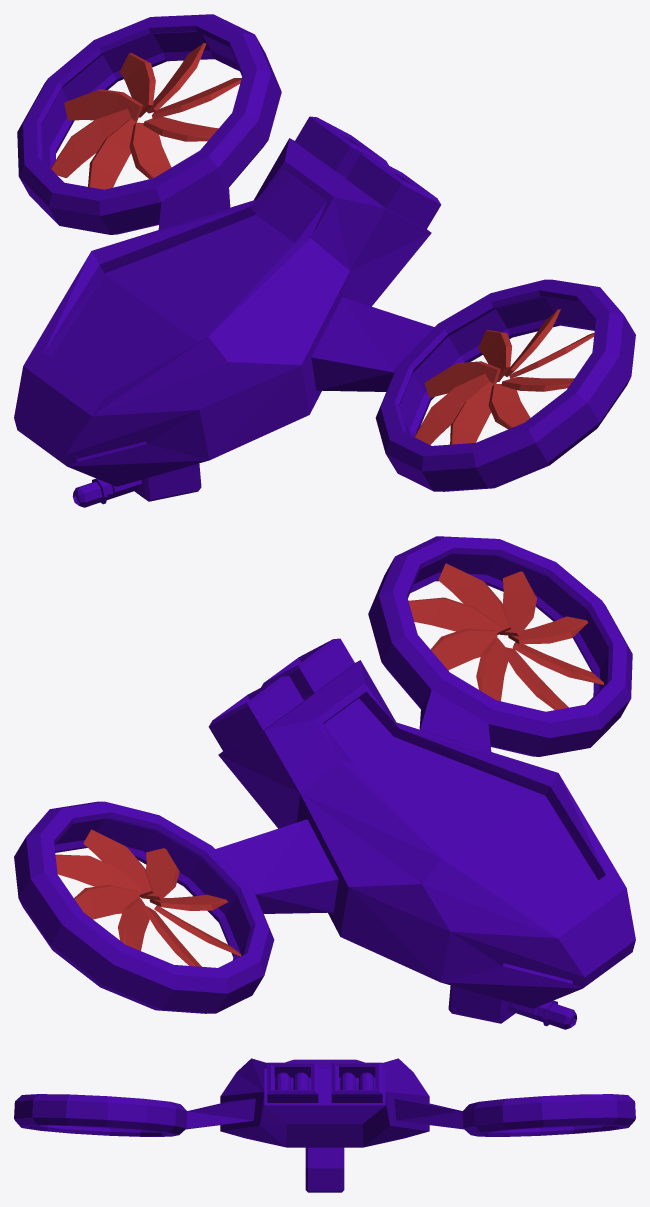
The model's file is Drone.fbx.
The picture shows the model from 3 angles, top to bottom: view 1: azimuth 30°, elevation 25°; view 2: azimuth 150°, elevation 25°; view 3: azimuth 270°, elevation 25°; orthographic projection. The views are drawn at different scales.
Parts seen in each view (by area): view 1: polySurface9, polySurface11, polySurface12; view 2: polySurface9, polySurface12, polySurface11; view 3: polySurface9.
Boxes of the visible parts, x1=… form: polySurface9: x1=14, y1=14, x2=635, y2=507; polySurface11: x1=50, y1=43, x2=241, y2=189; polySurface12: x1=414, y1=309, x2=594, y2=444; polySurface9: x1=14, y1=536, x2=635, y2=1029; polySurface12: x1=408, y1=563, x2=603, y2=709; polySurface11: x1=55, y1=829, x2=241, y2=966; polySurface9: x1=14, y1=1058, x2=635, y2=1192.
Size of the model in its own units: 2.77 by 1.95 by 5.95.
